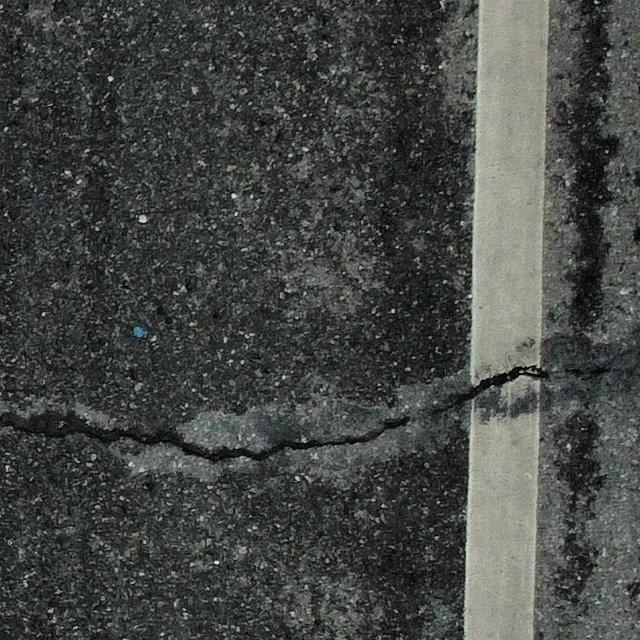TransverseCrack: (1, 364, 551, 464)
